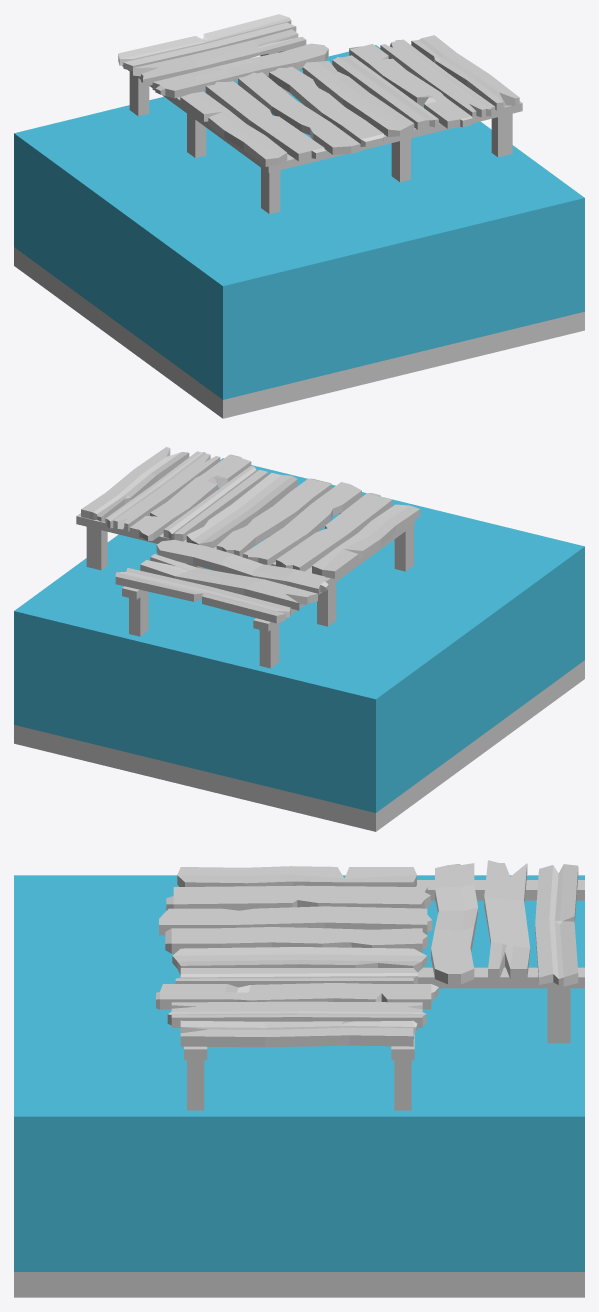
Rendered from PortDL.fbx.
3 views of the same model, one above another, from view 1: azimuth 30°, elevation 25°; view 2: azimuth 150°, elevation 25°; view 3: azimuth 270°, elevation 25° (orthographic). The views are drawn at different scales.
Visible parts, largest first — view 1: PortDL; view 2: PortDL; view 3: PortDL.
Boxes of the visible parts, x1,y1,x2,y2 form: PortDL: (14,14,584,418); PortDL: (14,447,584,831); PortDL: (14,860,584,1297).
Bounding box in the file's own units: 2 × 2 × 1.01.
